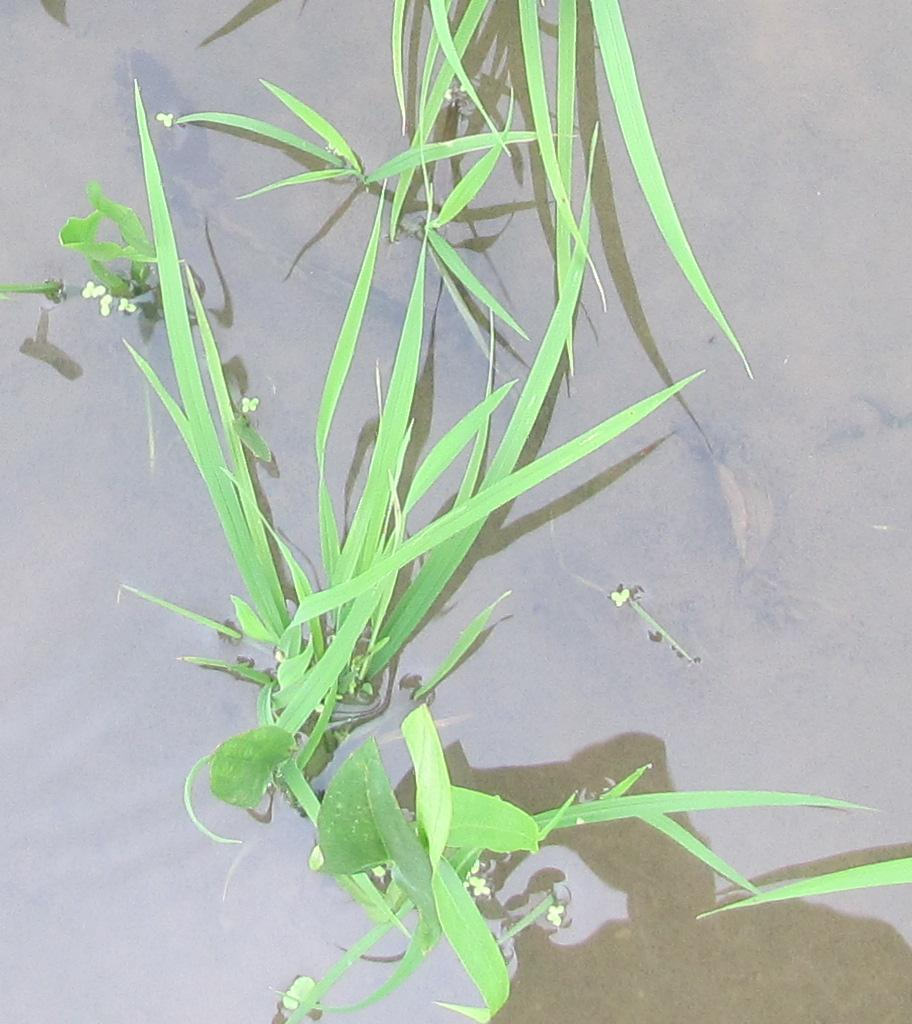Weed: (310, 728, 530, 1003), (202, 714, 307, 822)
